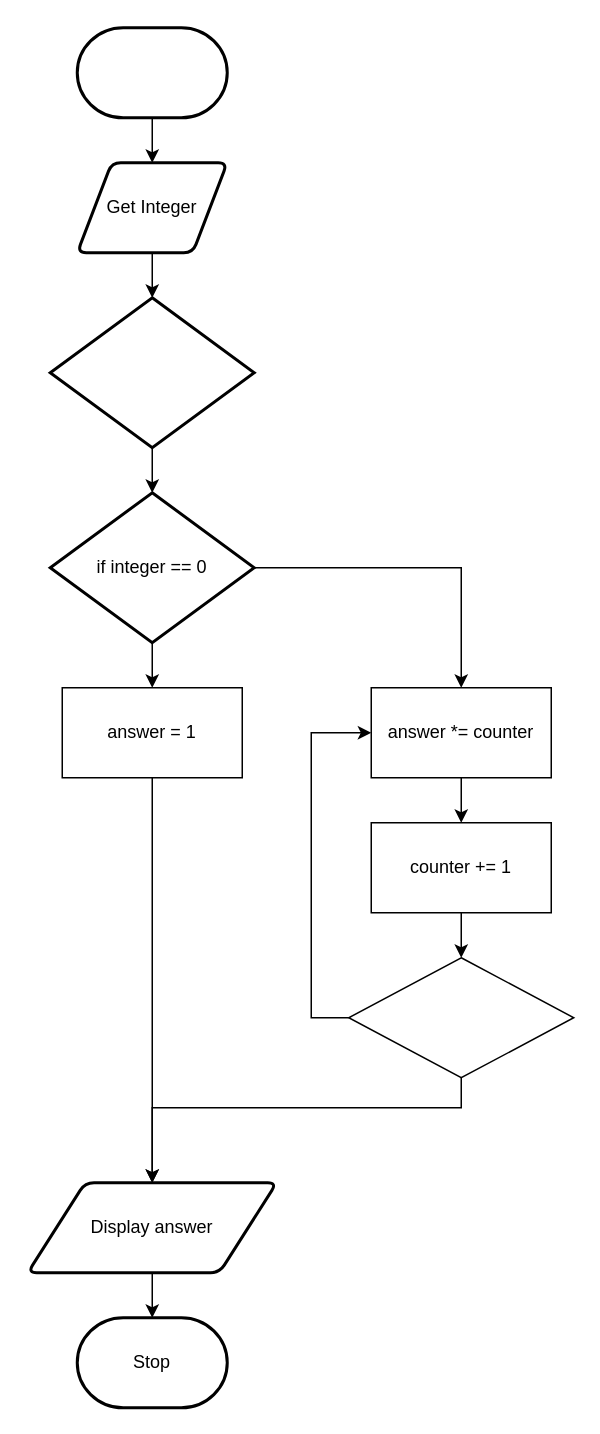
This 600x1434 diagram has some shape labels left out. The box of each missing label's shape, as (x1, y1, x2, y2) in pixels:
if integer >= 0: (48, 296, 255, 448)
Start: (75, 26, 228, 118)
while (integer >= counter): (347, 956, 574, 1078)
